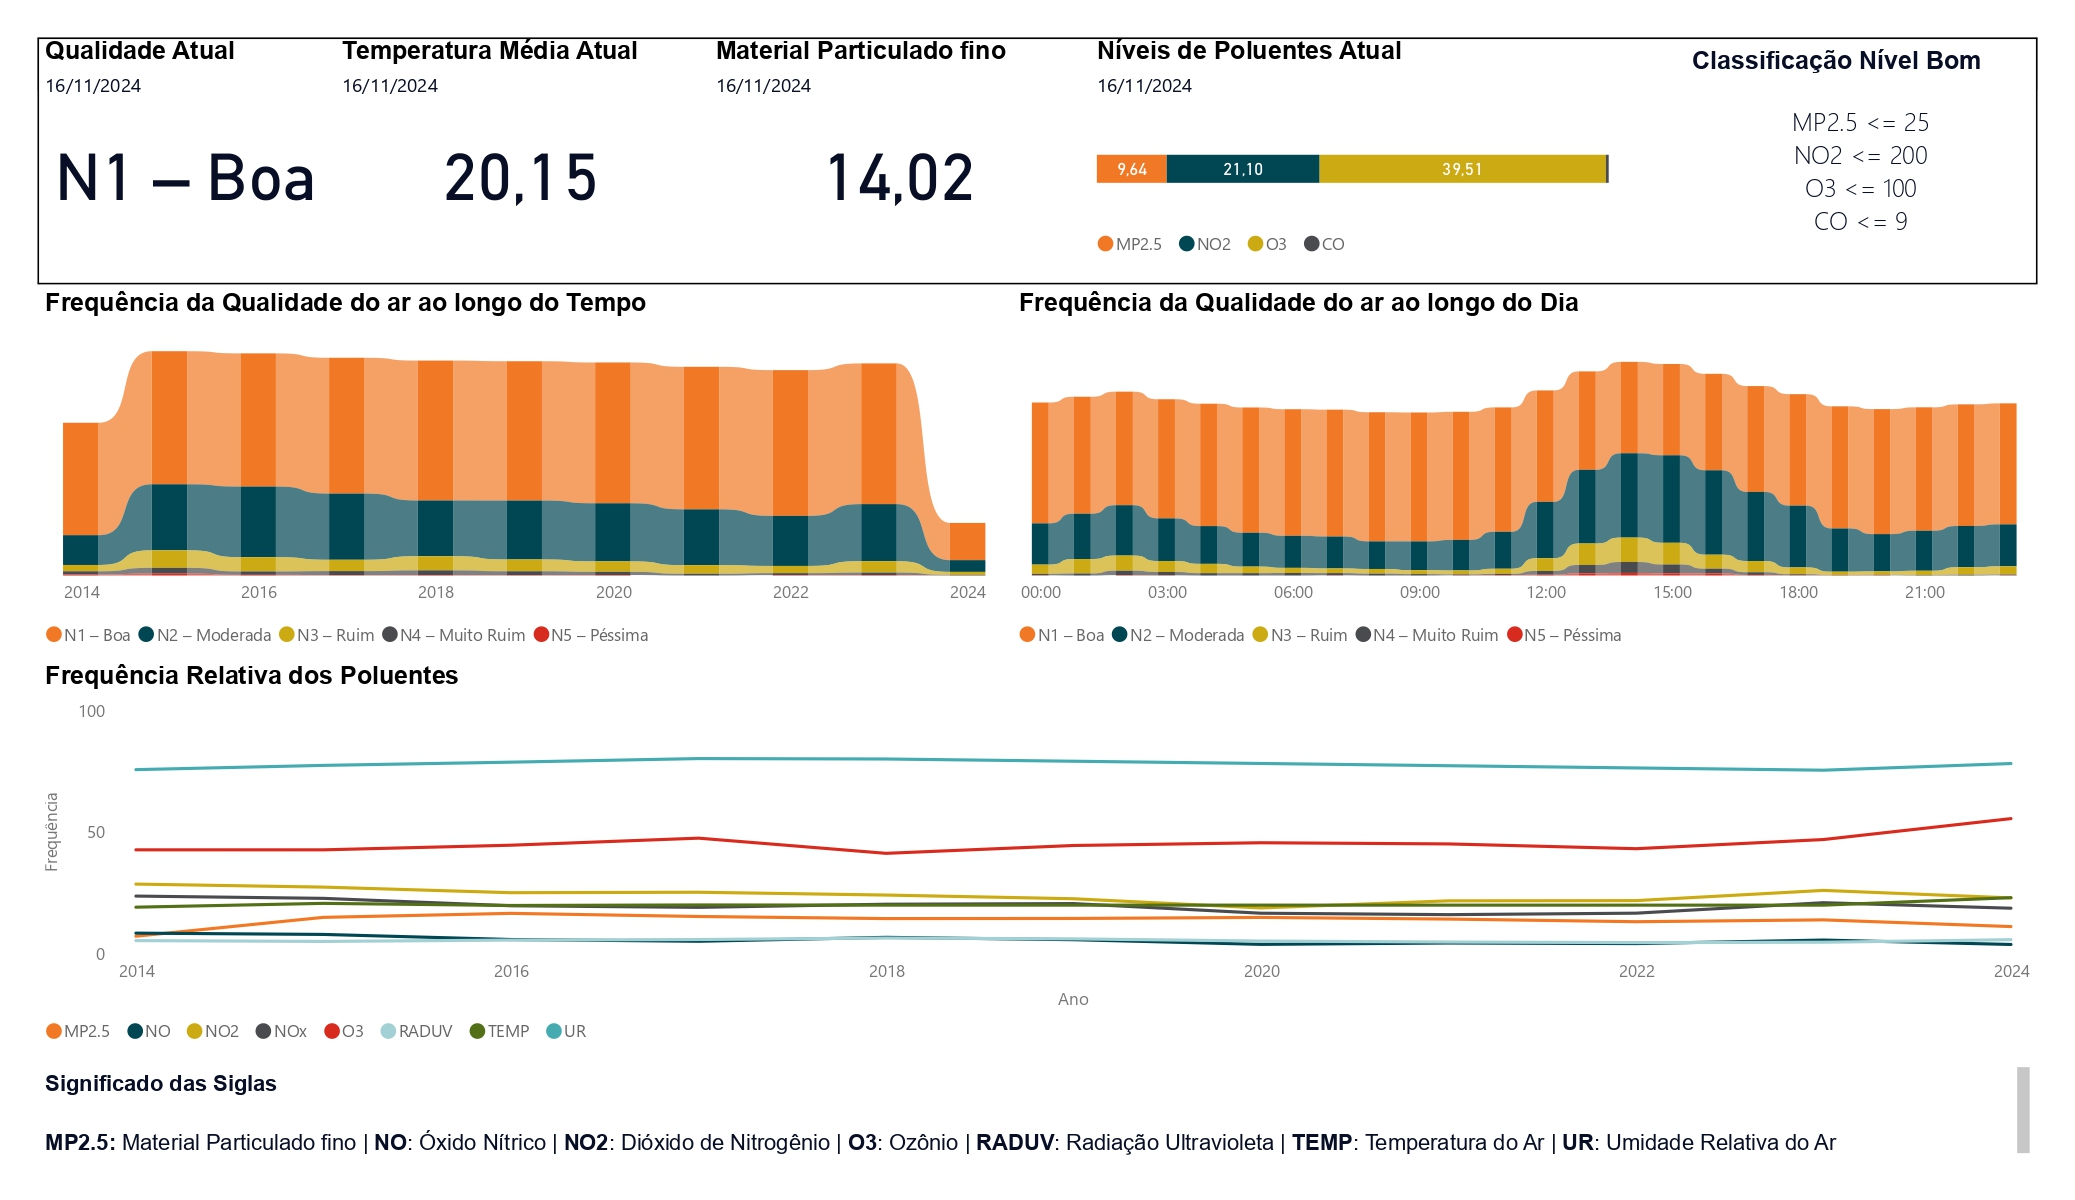

What the dashboard file says about the page in this screenshot:
{"tool":"powerbi","page":{"name":"v0","canvas":[1280,720],"ordinal":0},"visuals":[{"type":"shape","box":[0,0,1280,157.5],"z":0},{"type":"ribbonChart","title":"Frequência da Qualidade do ar ao longo do Tempo","fields":{"Category":["v0.Data.Variation.Hierarquia de datas.Ano","v0.Data.Variation.Hierarquia de datas.Trimestre","v0.Data.Variation.Hierarquia de datas.Mês","v0.Data.Variation.Hierarquia de datas.Dia"],"Y":["Sum(v0.qualidade_ar_encoded)"],"Series":["v0.qualidade_ar"]},"box":[0,161.4,622.9,238.6],"z":1000},{"type":"ribbonChart","title":"Frequência da Qualidade do ar ao longo do Dia","fields":{"Y":["Sum(v0.qualidade_ar_encoded)"],"Series":["v0.qualidade_ar"],"Category":["v0.Hora"]},"box":[622.9,161.4,657.1,238.6],"z":2000},{"type":"card","title":"Qualidade Atual","fields":{"Values":["Min(v0.qualidade_ar)"]},"box":[0,0,190,131.2],"z":3000},{"type":"card","title":"Temperatura Média Atual","fields":{"Values":["Avg(v0.TEMP)"]},"box":[190,0,238.6,131.4],"z":4000},{"type":"card","title":"Material Particulado fino","fields":{"Values":["Avg(v0.MP2.5)"]},"box":[428.6,0,244.3,131.4],"z":5000},{"type":"barChart","title":"Níveis de Poluentes Atual","fields":{"Category":["v0.qualidade_ar"],"Y":["Avg(v0.MP2.5)","Avg(v0.NO2)","Avg(v0.O3)","Avg(v0.CO)"]},"box":[672.5,0,381.2,150],"z":6000},{"type":"textbox","box":[1054,0,226,142],"z":7000},{"type":"lineChart","title":"Frequência Relativa dos Poluentes","fields":{"Category":["v0.Data.Variation.Hierarquia de datas.Ano","v0.Data.Variation.Hierarquia de datas.Trimestre","v0.Data.Variation.Hierarquia de datas.Mês","v0.Data.Variation.Hierarquia de datas.Dia"],"Y":["Avg(v0.MP2.5)","Avg(v0.NO)","Avg(v0.NO2)","Avg(v0.NOx)","Avg(v0.O3)","Avg(v0.RADUV)","Avg(v0.TEMP)","Avg(v0.UR)"]},"box":[0,400,1280,254.3],"z":8000},{"type":"textbox","box":[0,653.8,1280,66.2],"z":9000}]}

Visuals, with their boxes in screenshot pixels (x1, y1, x2, y2):
shape: select_region(38, 38, 2038, 284)
"Frequência da Qualidade do ar ao longo do Tempo" ribbonChart: select_region(38, 290, 1011, 662)
"Frequência da Qualidade do ar ao longo do Dia" ribbonChart: select_region(1011, 290, 2038, 662)
"Qualidade Atual" card: select_region(38, 38, 334, 242)
"Temperatura Média Atual" card: select_region(334, 38, 707, 243)
"Material Particulado fino" card: select_region(707, 38, 1089, 243)
"Níveis de Poluentes Atual" barChart: select_region(1088, 38, 1684, 272)
textbox: select_region(1684, 38, 2038, 259)
"Frequência Relativa dos Poluentes" lineChart: select_region(38, 662, 2038, 1060)
textbox: select_region(38, 1059, 2038, 1162)
